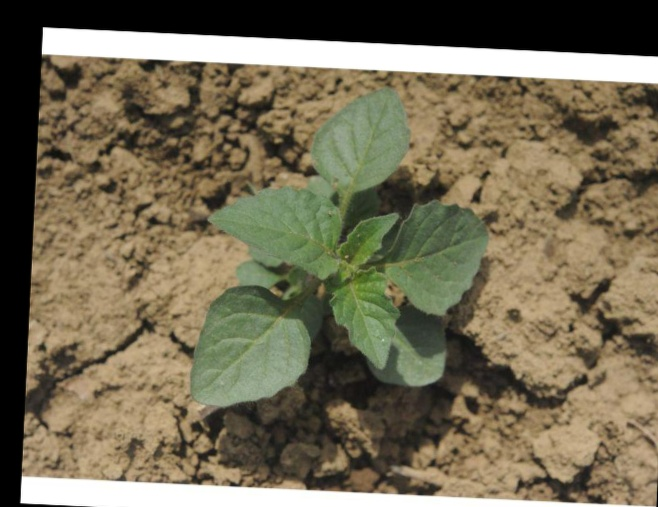nightshade: (194, 83, 486, 412)
